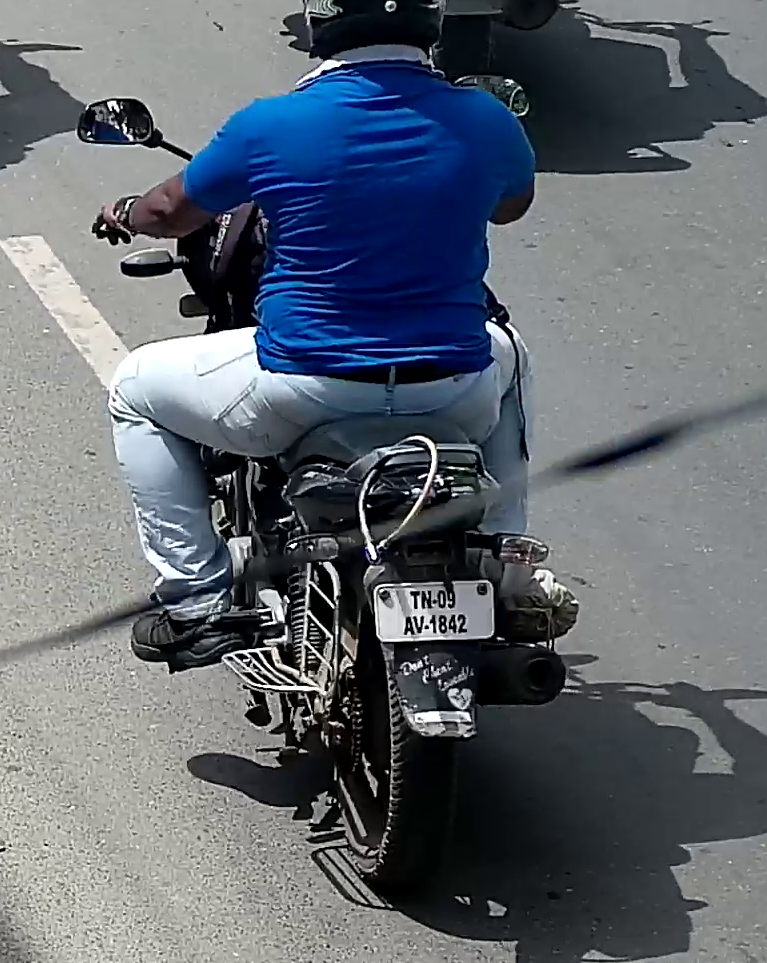-: (424, 625, 429, 630), (432, 599, 436, 605)
0: (437, 590, 446, 609)
1: (430, 615, 437, 634)
2: (457, 613, 468, 634)
4: (447, 613, 457, 634)
8: (437, 614, 447, 634)
9: (446, 590, 456, 609)
A: (402, 616, 413, 636)
N: (420, 589, 432, 610)
P16: (371, 578, 495, 644)
T: (409, 590, 420, 610)
V: (413, 614, 424, 634)
